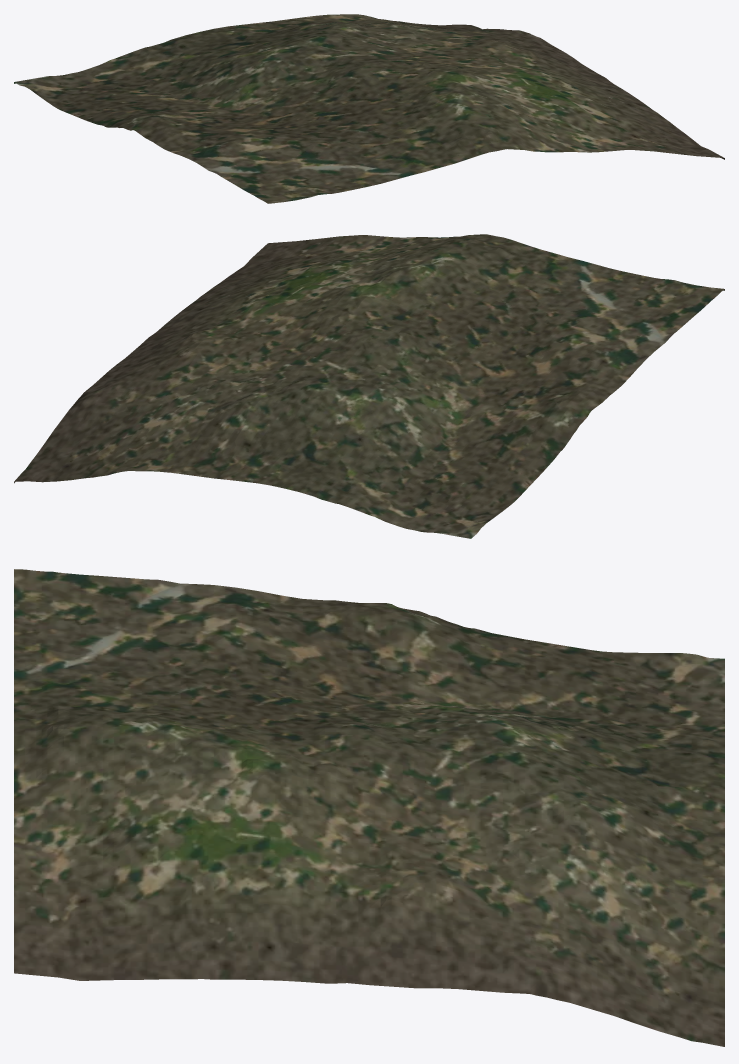
3 views of the same model, one above another, from view 1: azimuth 30°, elevation 25°; view 2: azimuth 150°, elevation 25°; view 3: azimuth 270°, elevation 25° (orthographic). The views are drawn at different scales.
Bounding box in the file's own units: 250 × 65.66 × 241.
1 material, 1 textured.
